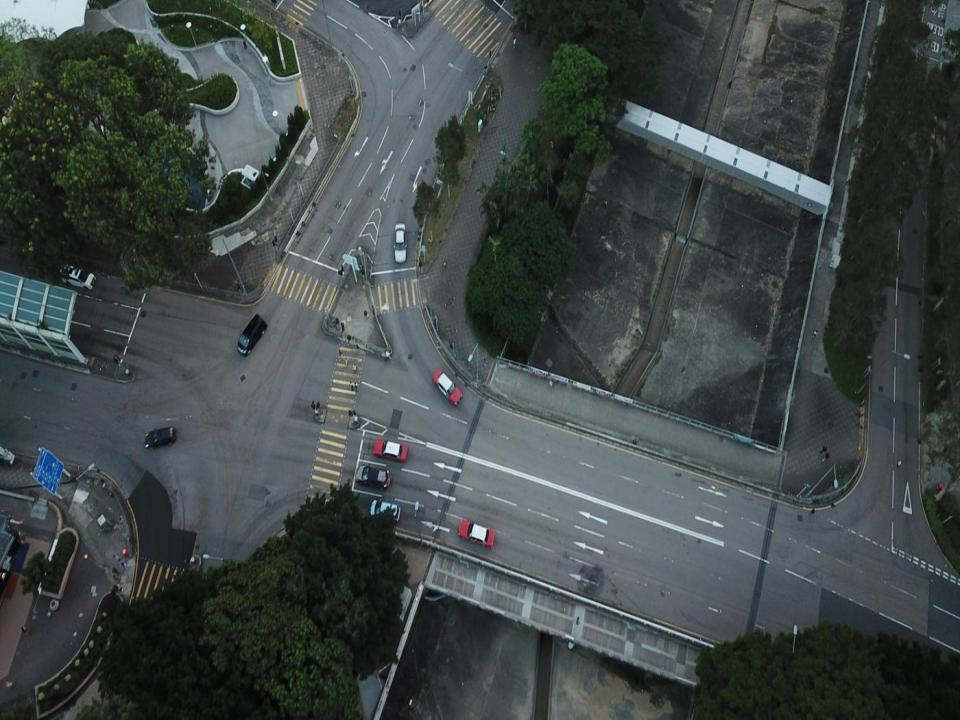car: (432, 368, 462, 405), (458, 521, 494, 549), (60, 265, 95, 291), (373, 439, 409, 464), (355, 465, 390, 490), (146, 427, 176, 451), (370, 499, 400, 523), (394, 223, 406, 263)
van: (237, 314, 268, 358)
